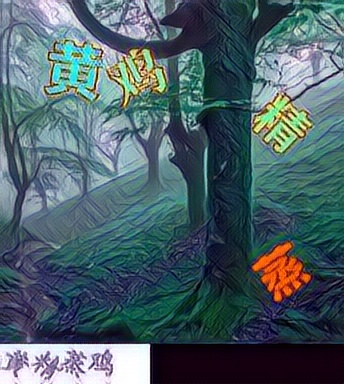BBC6: (41, 34, 104, 100)
BCA6: (106, 42, 169, 108)
BEAB: (251, 88, 314, 154)
D5F4: (249, 239, 312, 305)
